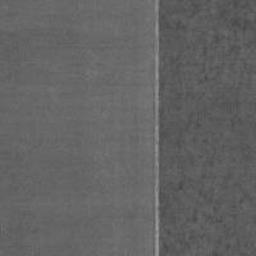Welding line: (151, 0, 164, 256)
